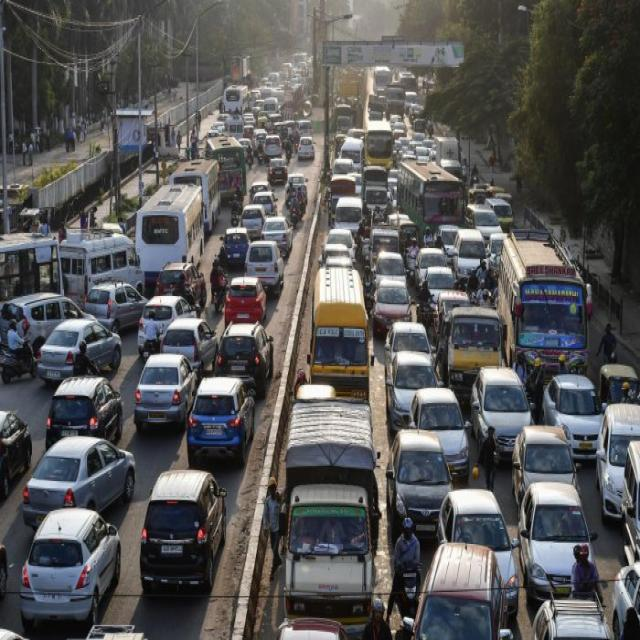Truck: (282, 400, 380, 630), (445, 306, 506, 401)
bus: (498, 238, 594, 400), (310, 272, 370, 404), (398, 160, 464, 241)
car: (142, 462, 227, 594), (440, 484, 519, 626), (517, 486, 599, 604), (389, 429, 453, 534), (513, 422, 581, 516), (410, 384, 470, 478), (191, 375, 253, 462), (136, 353, 193, 430), (390, 355, 440, 427), (386, 322, 436, 387)
motorcycle: (390, 556, 420, 634), (211, 265, 225, 312), (361, 238, 372, 277), (230, 196, 240, 226), (291, 200, 299, 228)
